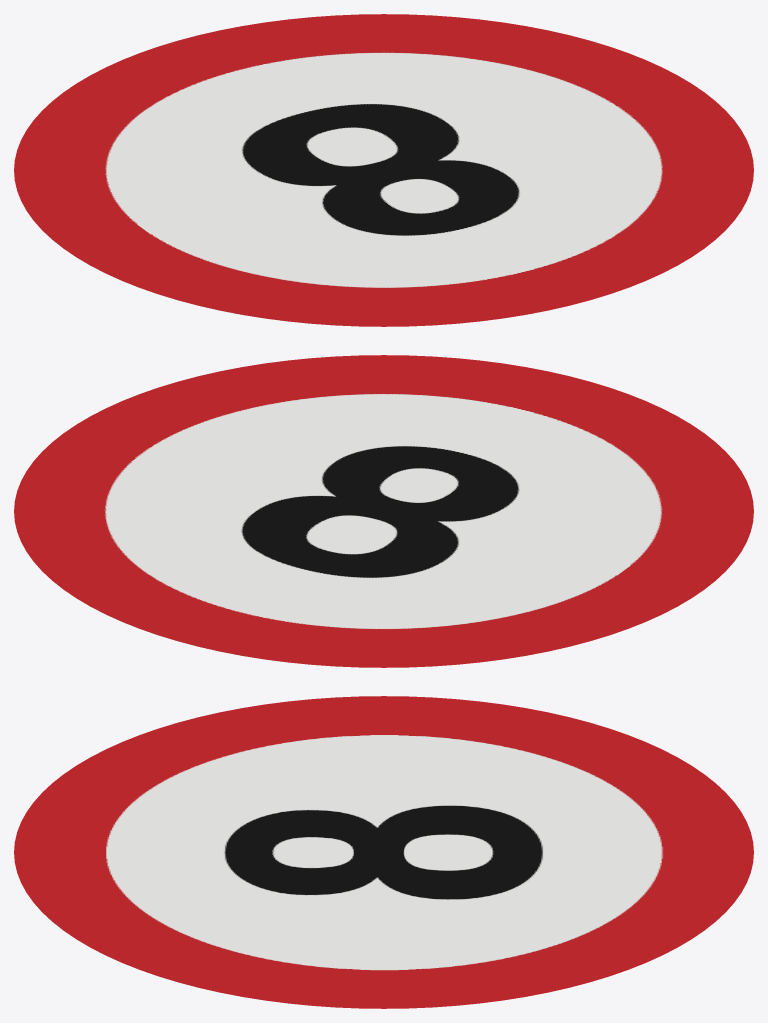
File: stage_08.obj
The picture shows the model from 3 angles, top to bottom: view 1: azimuth 30°, elevation 25°; view 2: azimuth 150°, elevation 25°; view 3: azimuth 270°, elevation 25°; orthographic projection.
Visible parts, largest first — view 1: stage_08; view 2: stage_08; view 3: stage_08.
Boxes of the visible parts, x1=… form: stage_08: x1=14, y1=14, x2=753, y2=326; stage_08: x1=14, y1=355, x2=753, y2=667; stage_08: x1=14, y1=696, x2=753, y2=1008.
Bounding box in the file's own units: 0.6 × 0 × 0.6.
1 material, 1 textured.
